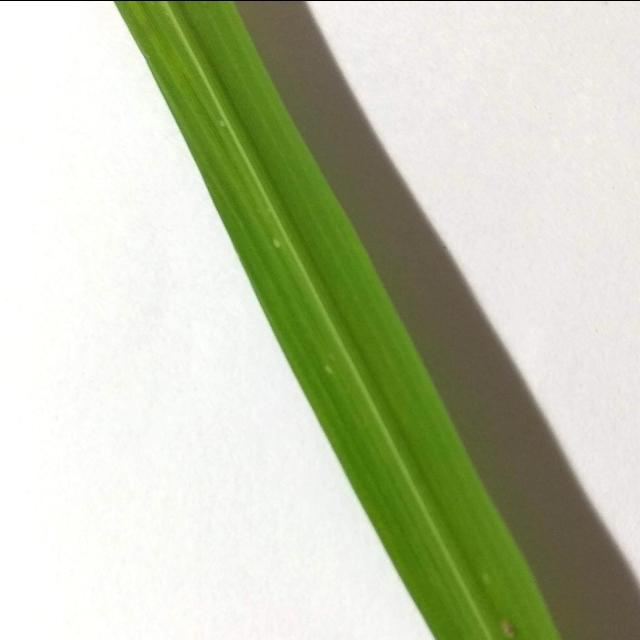healthy: (106, 0, 585, 640)
